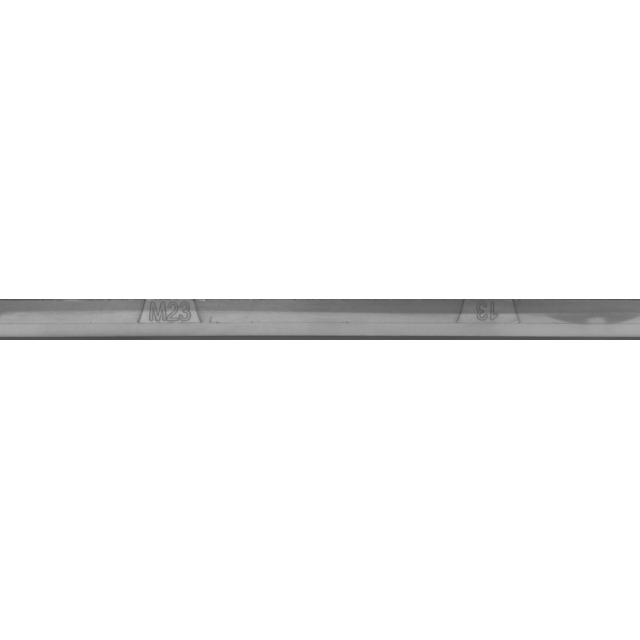mohao: (70, 270, 270, 370)
xuehao: (392, 270, 592, 370)
